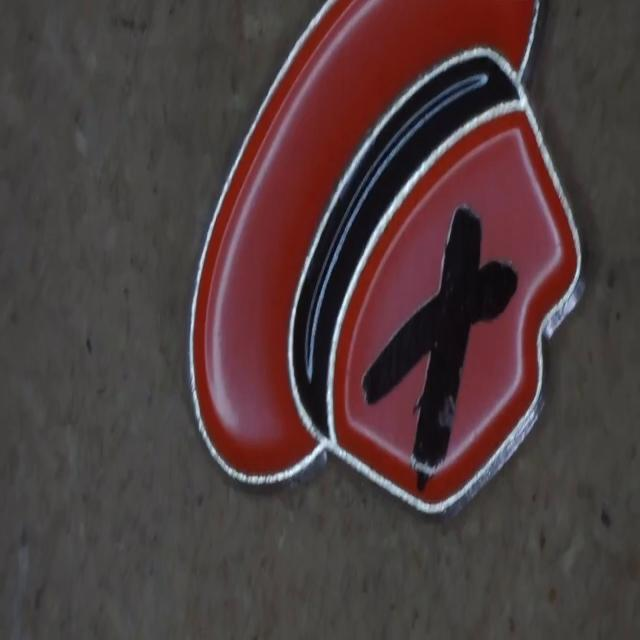Hatband: (292, 56, 519, 436)
Paint_Leak: (362, 207, 518, 488)
RedHatPin: (190, 0, 580, 513)
